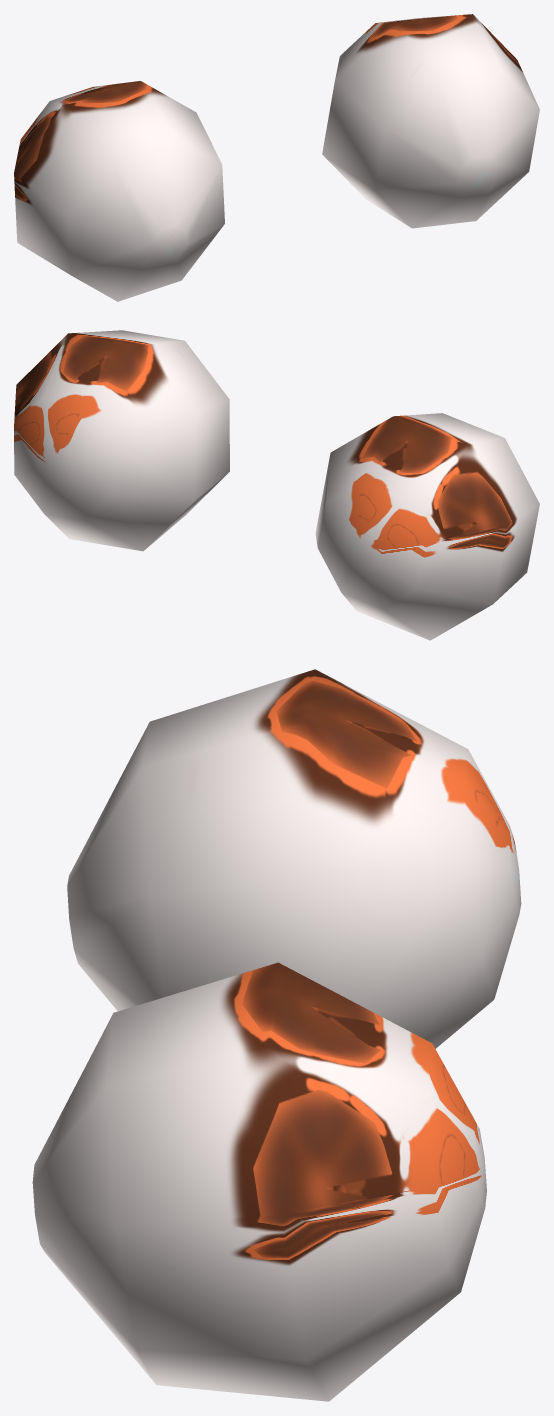
The model's file is Eyes.fbx.
3 renders of one model, top to bottom at view 1: azimuth 30°, elevation 25°; view 2: azimuth 150°, elevation 25°; view 3: azimuth 270°, elevation 25°, orthographic. The views are drawn at different scales.
Visible parts, largest first — view 1: EYES_LOW; view 2: EYES_LOW; view 3: EYES_LOW.
Part boxes in pixels (x1=…): EYES_LOW: x1=14, y1=14, x2=539, y2=301; EYES_LOW: x1=14, y1=330, x2=539, y2=640; EYES_LOW: x1=32, y1=669, x2=521, y2=1401.
Size of the model in its own units: 75.44 by 28.68 by 32.62.
